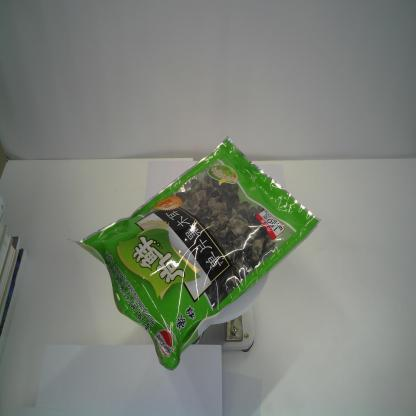Dried Food: (65, 133, 323, 374)
